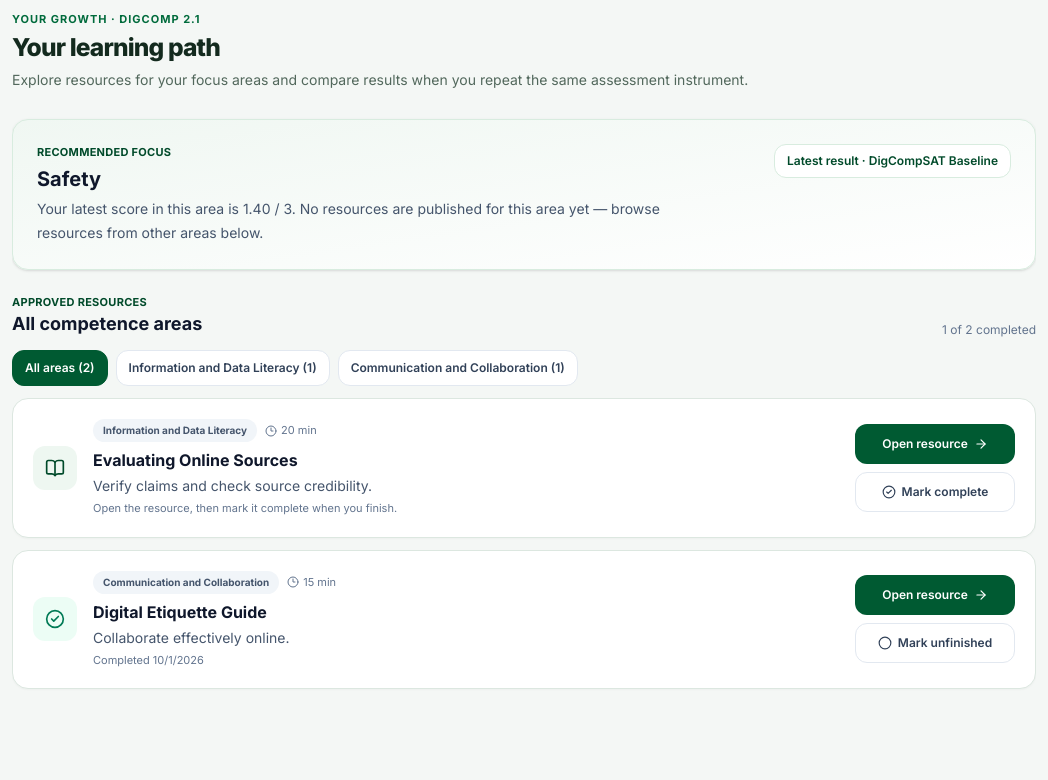
it: LearningHub › uses / 3 scale for DigCompSAT and falls back to all areas when weakest area has no modules
Expected: the heading "Evaluating Online Sources" is shown, [93,450,298,470]
Expected: the text "1.40 / 3" is shown, [37,200,660,240]
Click the button "Information and Data Literacy (1)": (223, 368) [116,350,330,386]
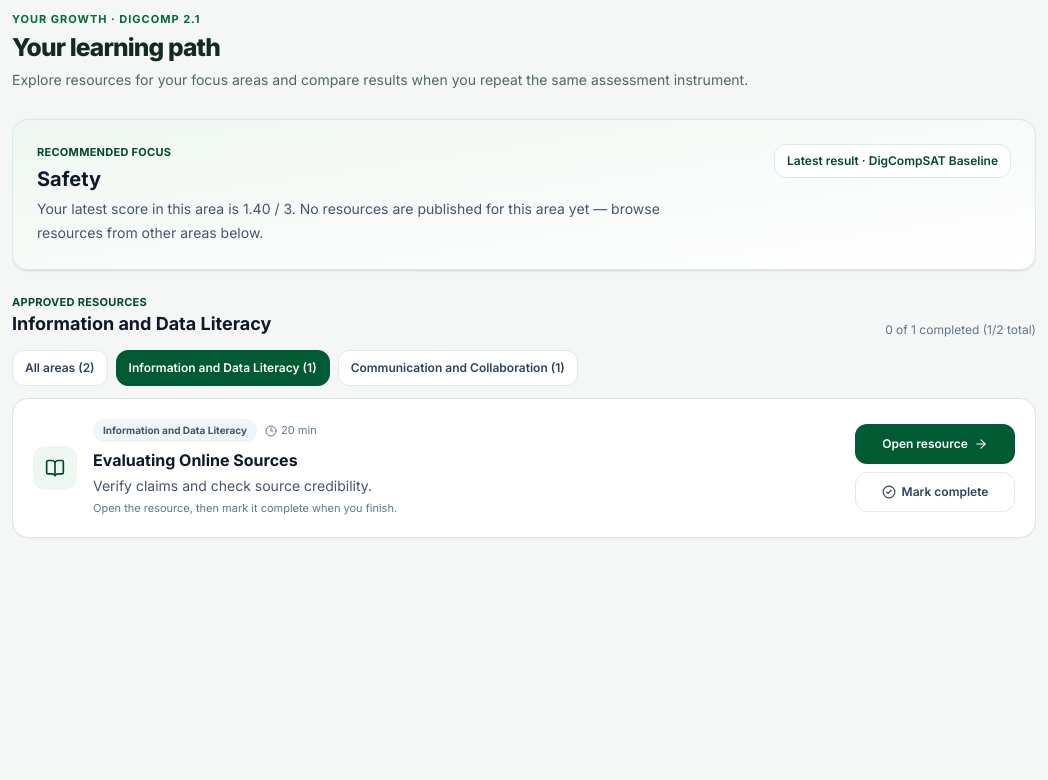
Expected: the heading "Evaluating Online Sources" is shown, [93,450,298,470]
Now the heading "Digital Etiquette Guide" is gone
